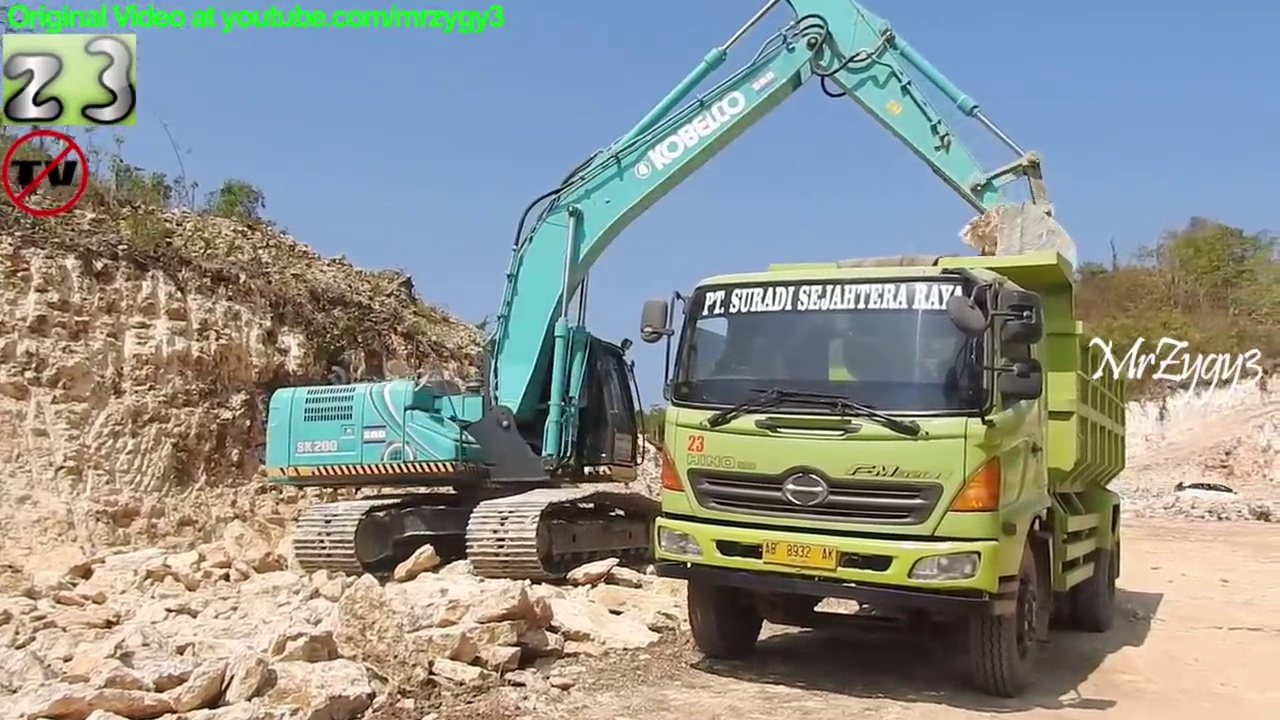excavator: (257, 1, 1086, 593)
truck: (634, 245, 1134, 705)
